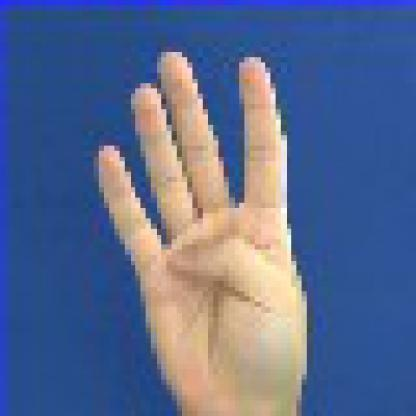four: (83, 31, 364, 411)
